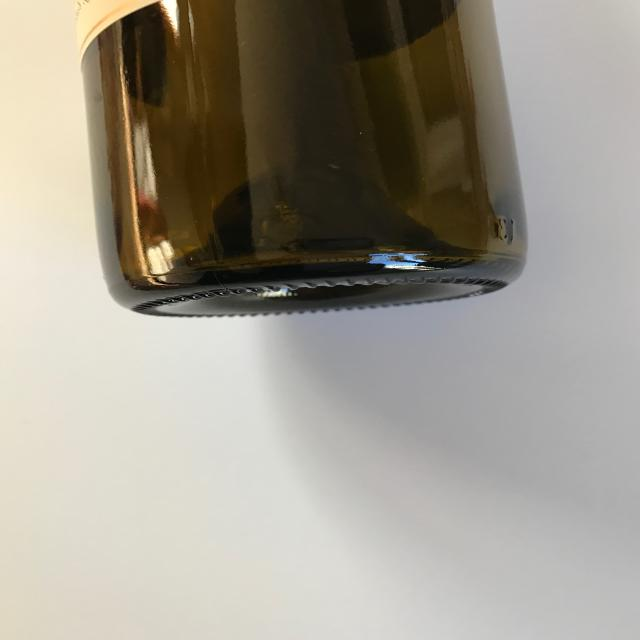glass: (68, 0, 531, 334)
